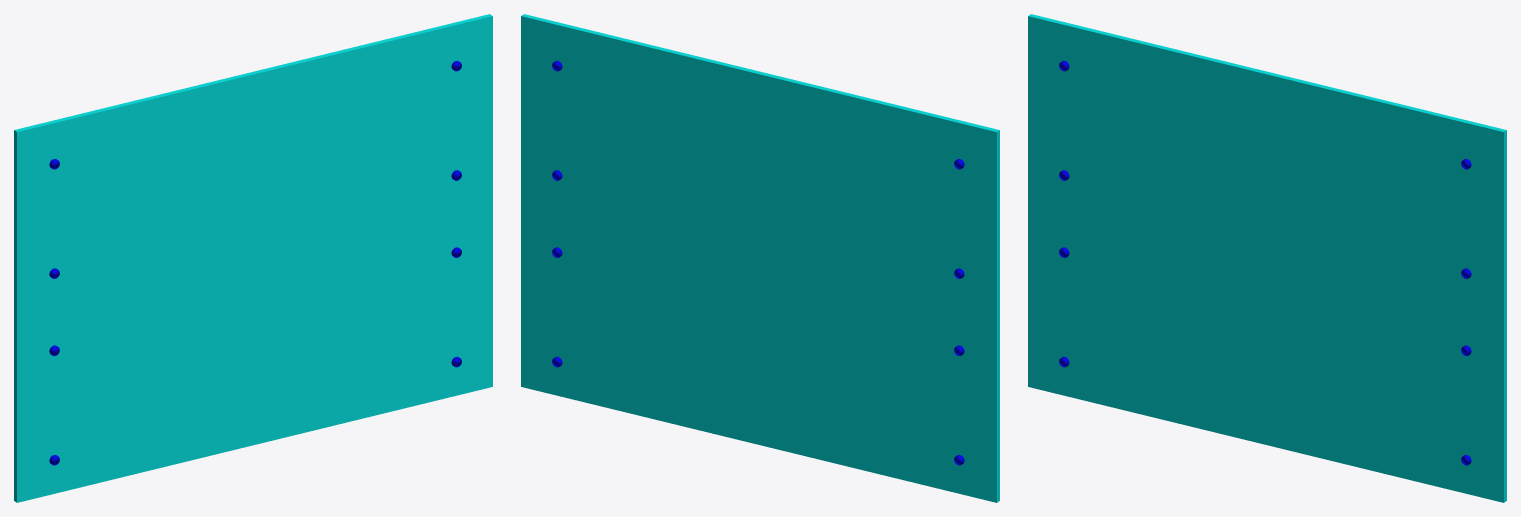
Rendered from cuadro_11_low.fbx.
3 views of the same model, side by side, from view 1: azimuth 30°, elevation 25°; view 2: azimuth 150°, elevation 25°; view 3: azimuth 330°, elevation 25° (orthographic).
Parts seen in each view (by area): view 1: vidrio_superior, vidrio_inferior; view 2: vidrio_superior, vidrio_inferior; view 3: vidrio_superior, vidrio_inferior.
Part boxes in pixels (x1=…): vidrio_superior: x1=14, y1=14, x2=492, y2=317; vidrio_inferior: x1=14, y1=201, x2=492, y2=502; vidrio_superior: x1=521, y1=14, x2=999, y2=317; vidrio_inferior: x1=521, y1=201, x2=999, y2=502; vidrio_superior: x1=1028, y1=14, x2=1506, y2=317; vidrio_inferior: x1=1028, y1=201, x2=1506, y2=502.
Size of the model in its own units: 94 by 70 by 2.
